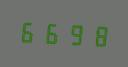eight: (84, 21, 105, 49)
nine: (62, 19, 83, 48)
six: (18, 17, 39, 45), (40, 18, 61, 46)
